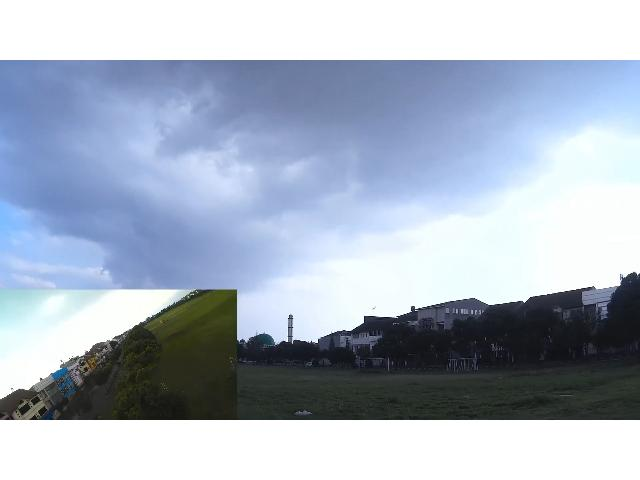Anti-Drone: (370, 304, 382, 313)
